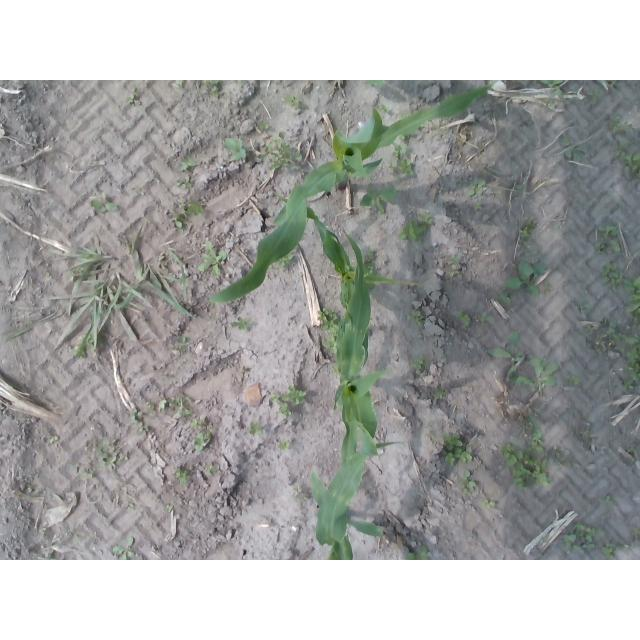Maize: (209, 80, 500, 301), (272, 190, 431, 330), (333, 230, 391, 474), (308, 441, 402, 560), (332, 80, 387, 86)
Weeds: (52, 236, 192, 349), (503, 439, 553, 490), (488, 330, 525, 383), (258, 130, 303, 170), (504, 260, 547, 296), (513, 356, 559, 389), (398, 211, 435, 246), (385, 138, 415, 179), (588, 318, 621, 355), (359, 183, 398, 214), (94, 435, 128, 470), (613, 137, 640, 180), (197, 240, 227, 277), (621, 331, 640, 389), (442, 434, 473, 467), (564, 521, 596, 551), (172, 203, 205, 230), (594, 223, 623, 253), (624, 273, 640, 325), (560, 137, 590, 164), (72, 329, 97, 359), (518, 217, 539, 248), (601, 262, 624, 290), (317, 307, 340, 334), (269, 390, 291, 418), (170, 393, 192, 419), (523, 413, 543, 440), (113, 536, 135, 560), (224, 138, 246, 162), (66, 461, 95, 479), (282, 384, 306, 405), (538, 80, 565, 98), (607, 113, 633, 131), (552, 445, 573, 467), (459, 470, 477, 495), (360, 249, 376, 277), (91, 199, 118, 214), (466, 179, 487, 198), (404, 544, 428, 560), (603, 538, 620, 560), (407, 309, 427, 327), (193, 430, 211, 450), (322, 334, 339, 355), (291, 485, 310, 503), (202, 80, 221, 98), (172, 334, 189, 354), (277, 250, 295, 268), (411, 355, 430, 372), (231, 317, 254, 331), (456, 310, 473, 327), (178, 155, 196, 171), (175, 468, 190, 486), (575, 299, 593, 312), (284, 94, 302, 107), (250, 421, 265, 436), (156, 253, 169, 270), (149, 398, 167, 410), (565, 374, 580, 387), (176, 179, 193, 190), (127, 93, 141, 106), (131, 409, 143, 424), (190, 416, 208, 426), (480, 312, 496, 323), (545, 98, 558, 111), (498, 292, 511, 305), (601, 495, 616, 506), (544, 280, 557, 292), (447, 267, 461, 278), (589, 89, 600, 103), (432, 389, 449, 398), (450, 253, 462, 265), (581, 428, 592, 440), (480, 499, 496, 507), (399, 133, 413, 142), (524, 250, 539, 258), (279, 440, 289, 452), (206, 466, 219, 475), (48, 434, 60, 443), (331, 362, 340, 374), (138, 426, 149, 435), (259, 122, 270, 131), (516, 184, 527, 192), (473, 203, 483, 211), (380, 104, 389, 112), (632, 528, 640, 537), (174, 81, 184, 88), (167, 503, 174, 511), (441, 356, 447, 360), (236, 81, 243, 84)
